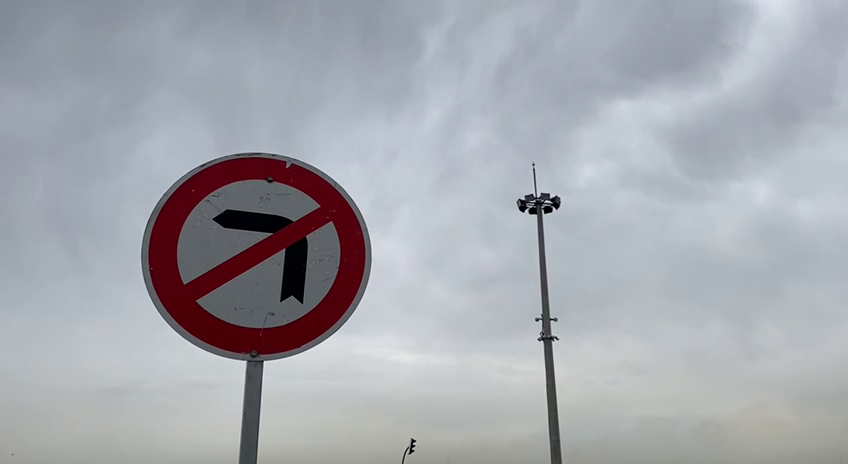noTurnLeft: (135, 145, 376, 368)
